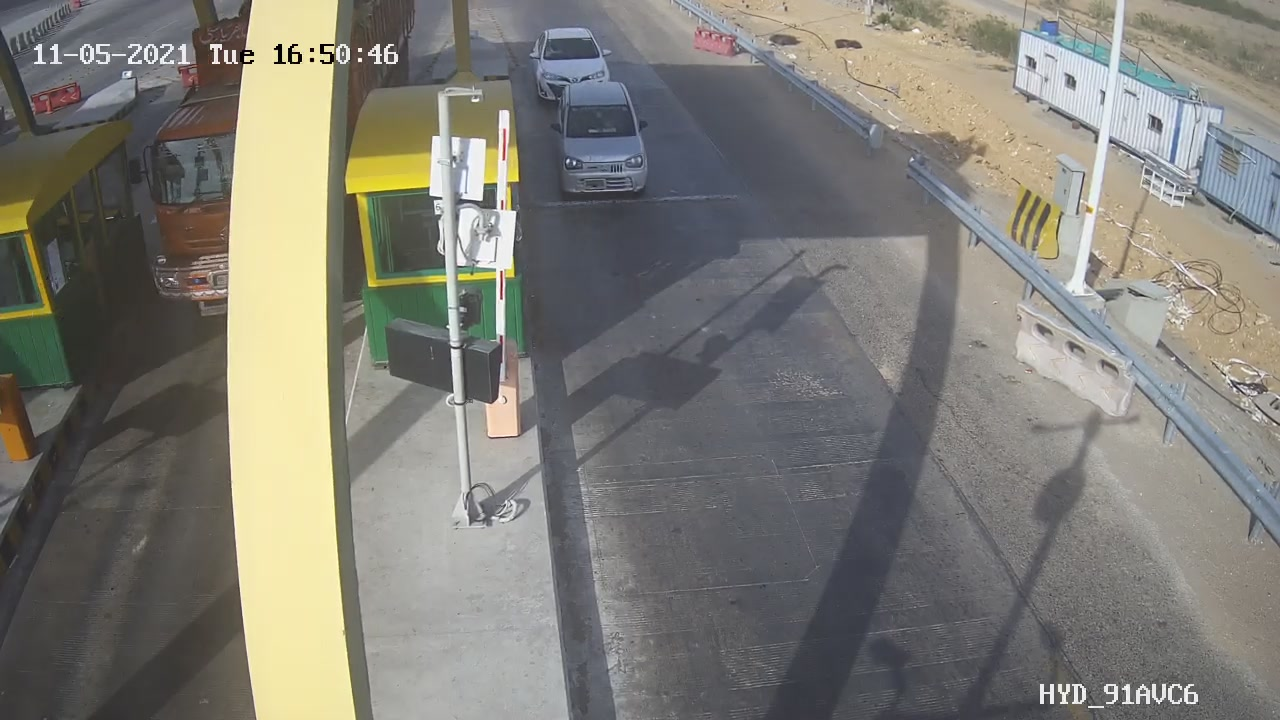F1: (538, 73, 664, 204), (518, 20, 629, 112)
